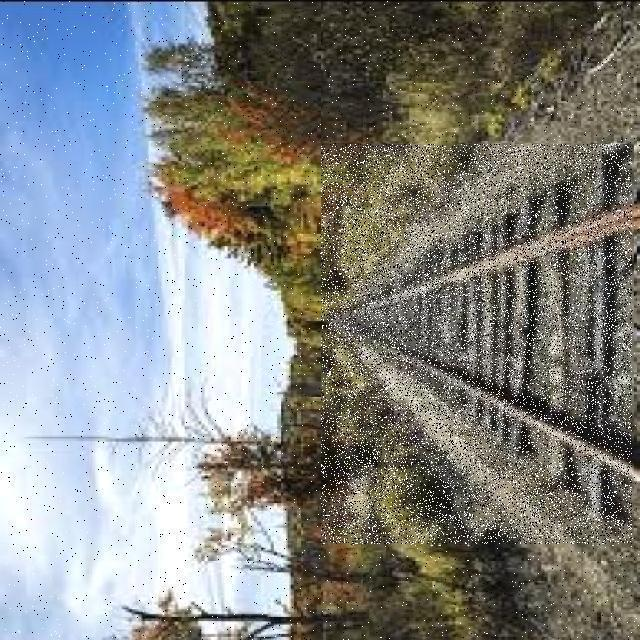rail: (322, 146, 633, 545)
